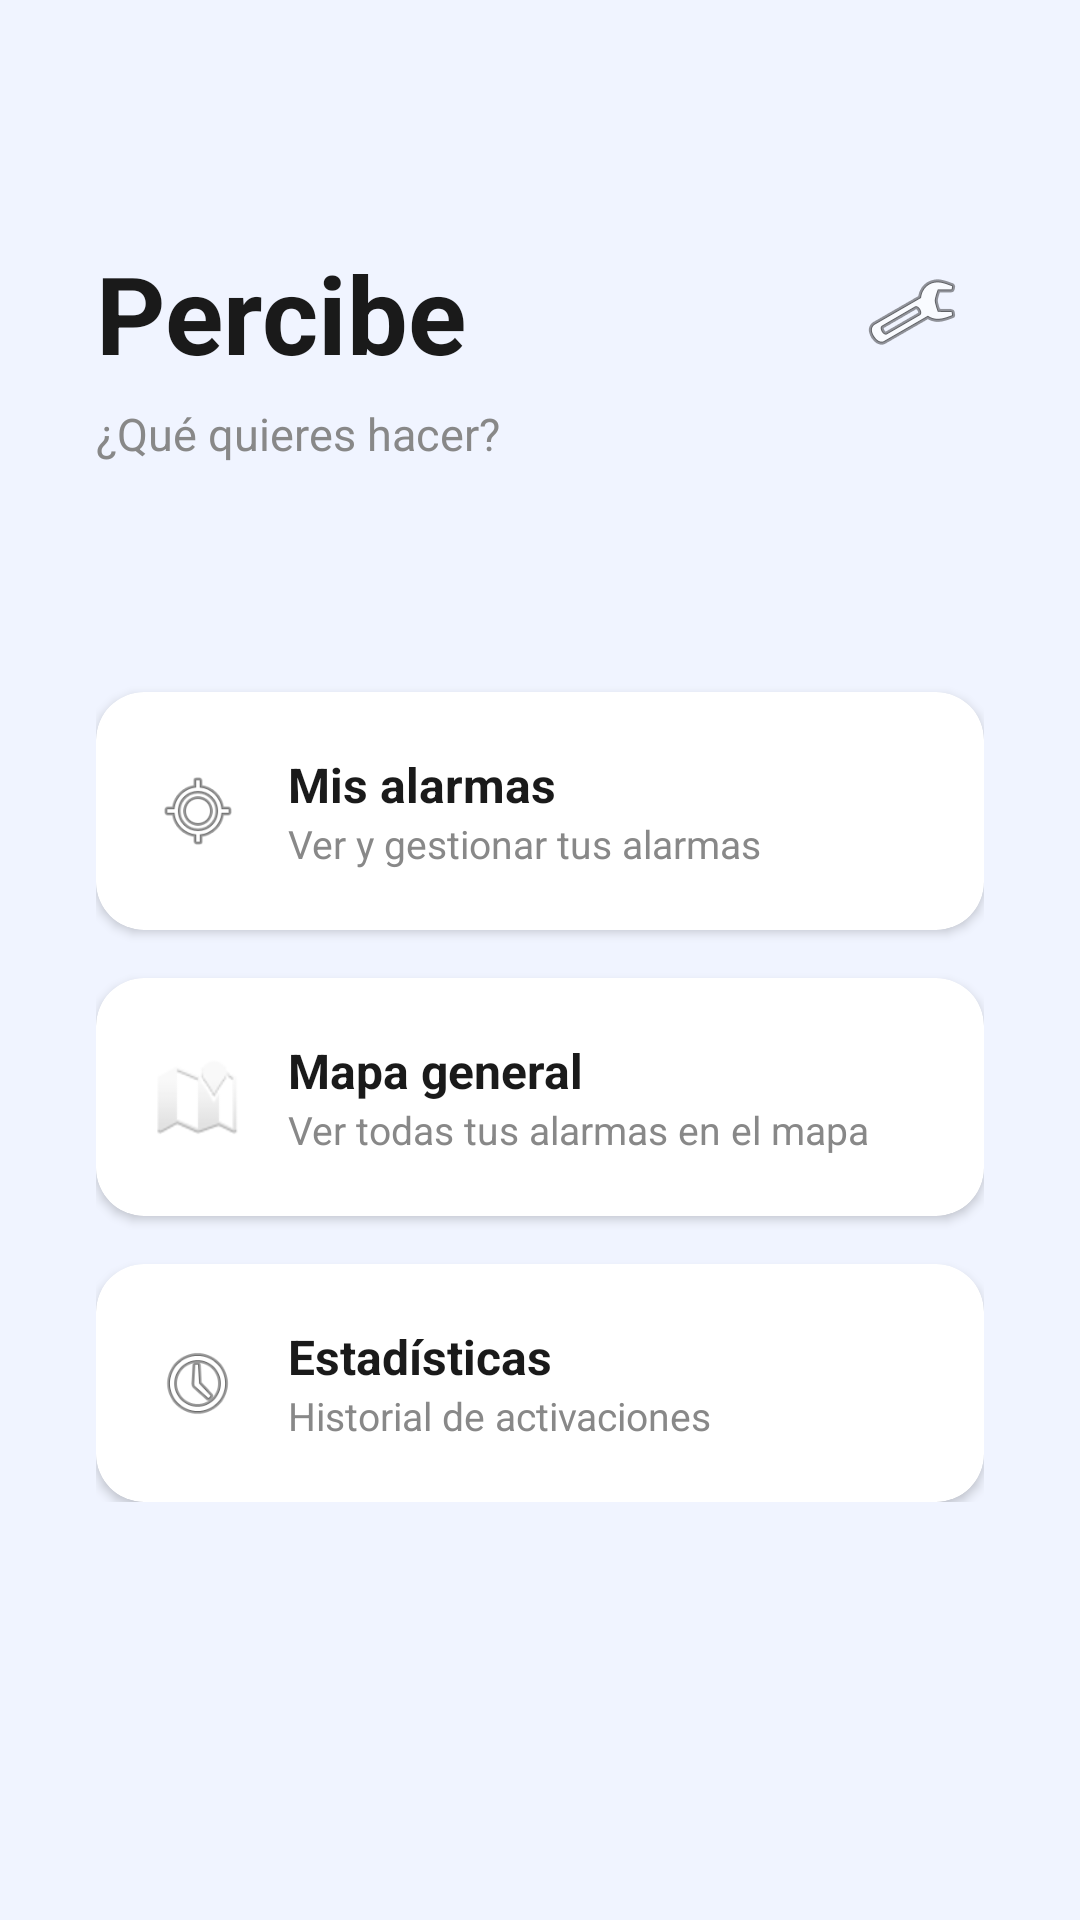

Icon bounding boxes for this 1080*1920 phone screenshot, format (x1, y1, x2, y2):
Configuración: (869, 279, 955, 345)
map: (157, 1070, 237, 1133)
mylocation: (164, 777, 232, 845)
recent history: (167, 1353, 228, 1414)
